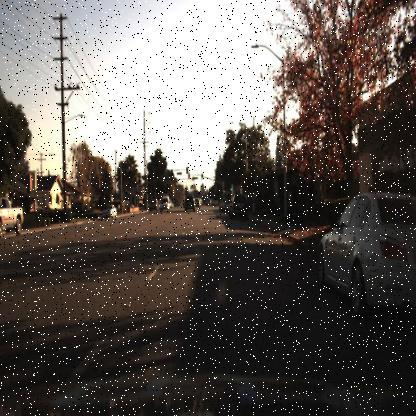car: (314, 190, 416, 328), (0, 194, 25, 236), (229, 193, 254, 217), (98, 199, 122, 223), (102, 204, 120, 221), (158, 193, 172, 213), (182, 193, 196, 213), (146, 196, 159, 214)
trafficLight-Green: (199, 170, 205, 182), (221, 186, 228, 196), (228, 183, 233, 194)
trafficLight-Red: (185, 170, 191, 182)
